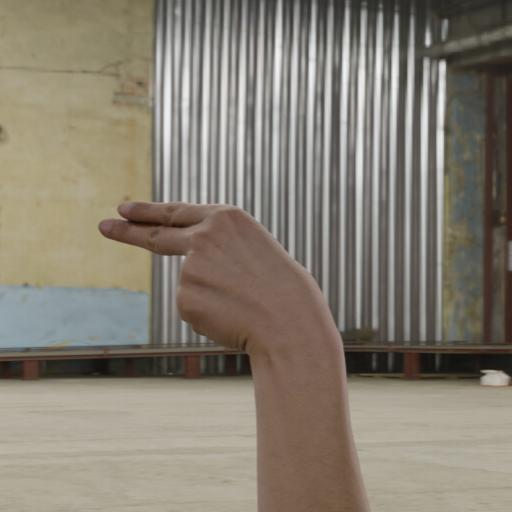H: (92, 194, 349, 368)
